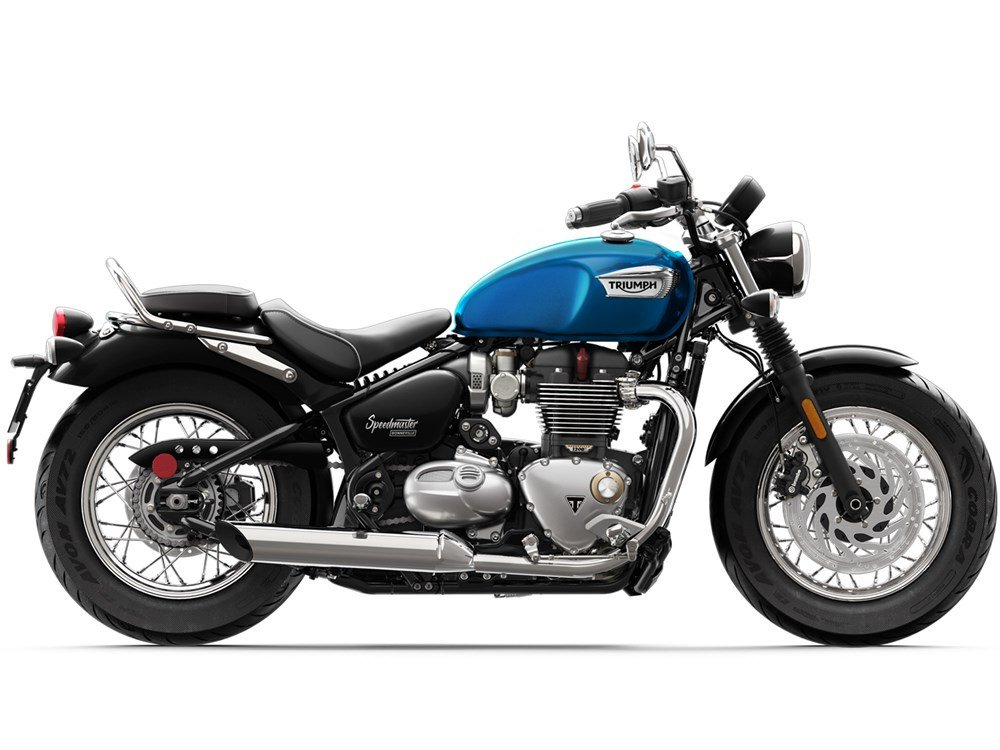motorcycle: (40, 178, 995, 646)
